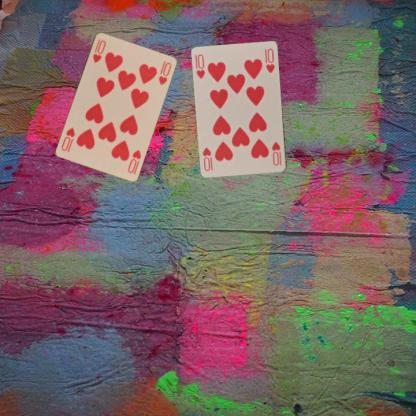10h: (90, 36, 107, 64), (125, 147, 142, 174), (269, 139, 282, 167), (194, 51, 206, 80)
